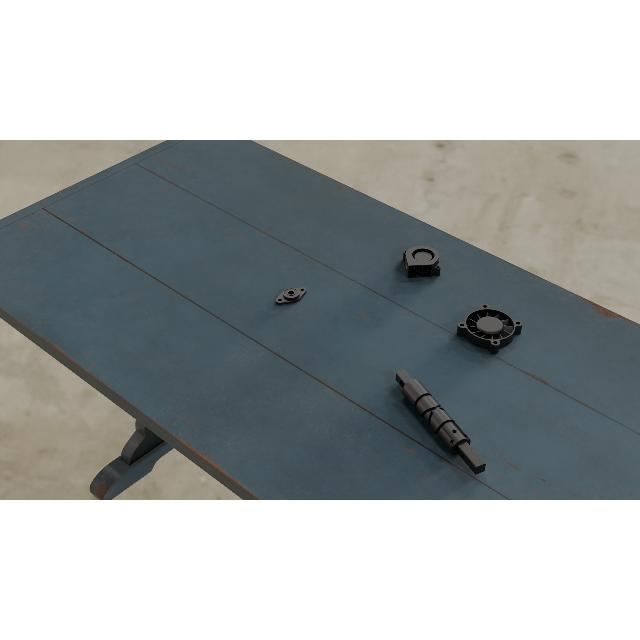Pieza1: (391, 364, 492, 481)
Pieza2: (270, 282, 312, 308)
Pieza3: (402, 245, 442, 279)
Pieza4: (454, 303, 526, 357)
